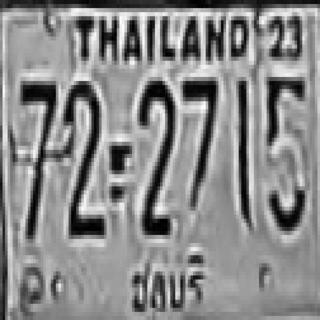N01: (236, 77, 249, 223)
N02: (62, 79, 103, 237), (138, 75, 174, 233), (62, 79, 100, 225), (137, 77, 173, 219)
N05: (264, 73, 307, 227)
N07: (18, 77, 56, 235), (180, 75, 216, 204)
P13: (125, 245, 210, 320)
